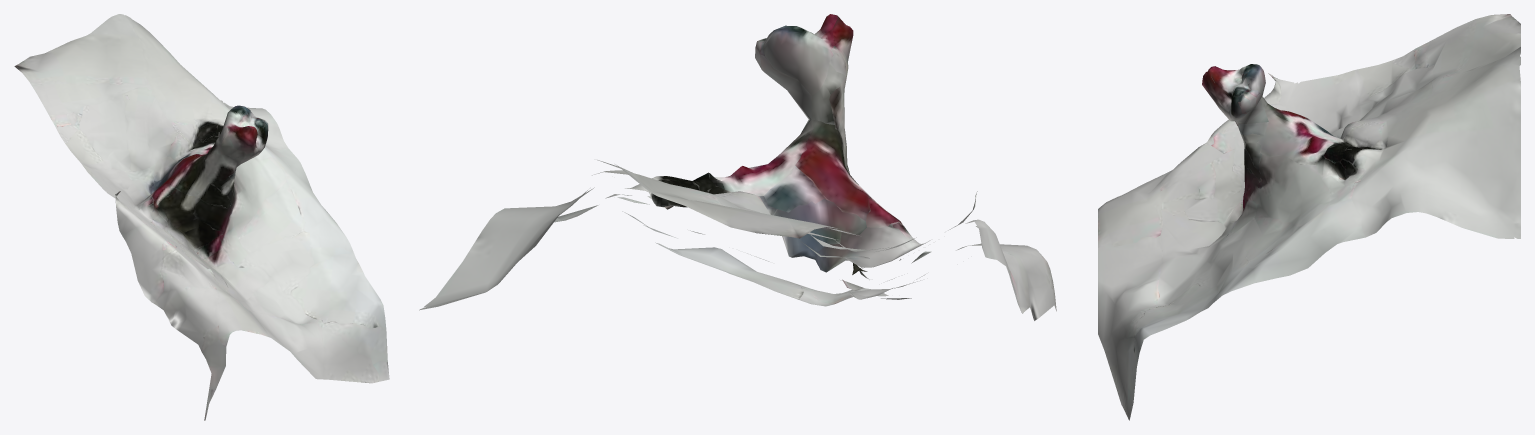
The model's file is hall.glb.
The picture shows the model from 3 angles, left to right: view 1: azimuth 30°, elevation 25°; view 2: azimuth 150°, elevation 25°; view 3: azimuth 270°, elevation 25°; orthographic projection. The views are drawn at different scales.
Size of the model in its own units: 0.5786 by 0.6982 by 0.8561.
Materials: 1 (1 with a texture image).
